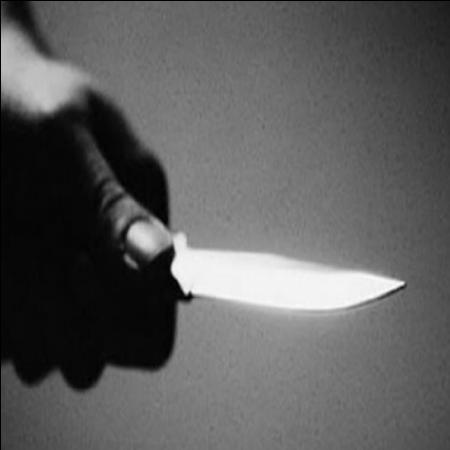long weapon: (1, 215, 411, 396)
